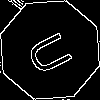U: (25, 25, 83, 79)
